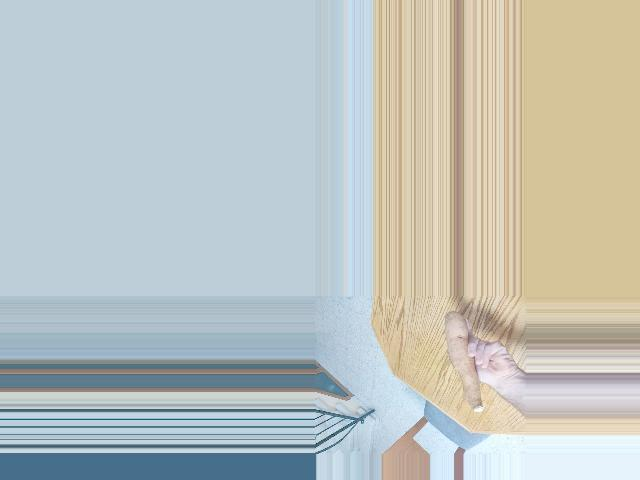sweet_potato: (438, 314, 483, 415)
